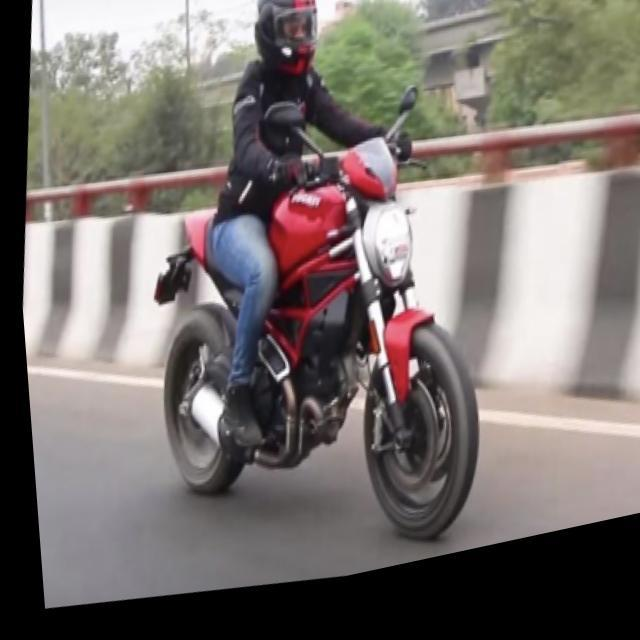Helmet: (240, 0, 328, 87)
